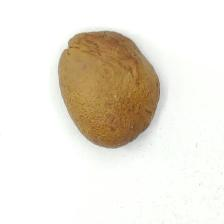NG: (57, 30, 145, 82)
